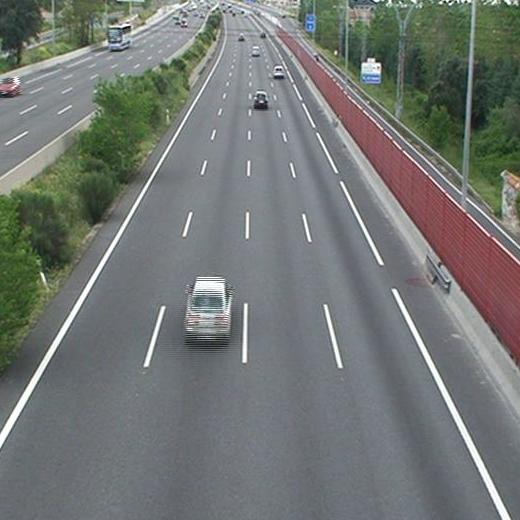car: (184, 278, 230, 340), (254, 92, 269, 108), (273, 67, 284, 77), (251, 46, 261, 56)
